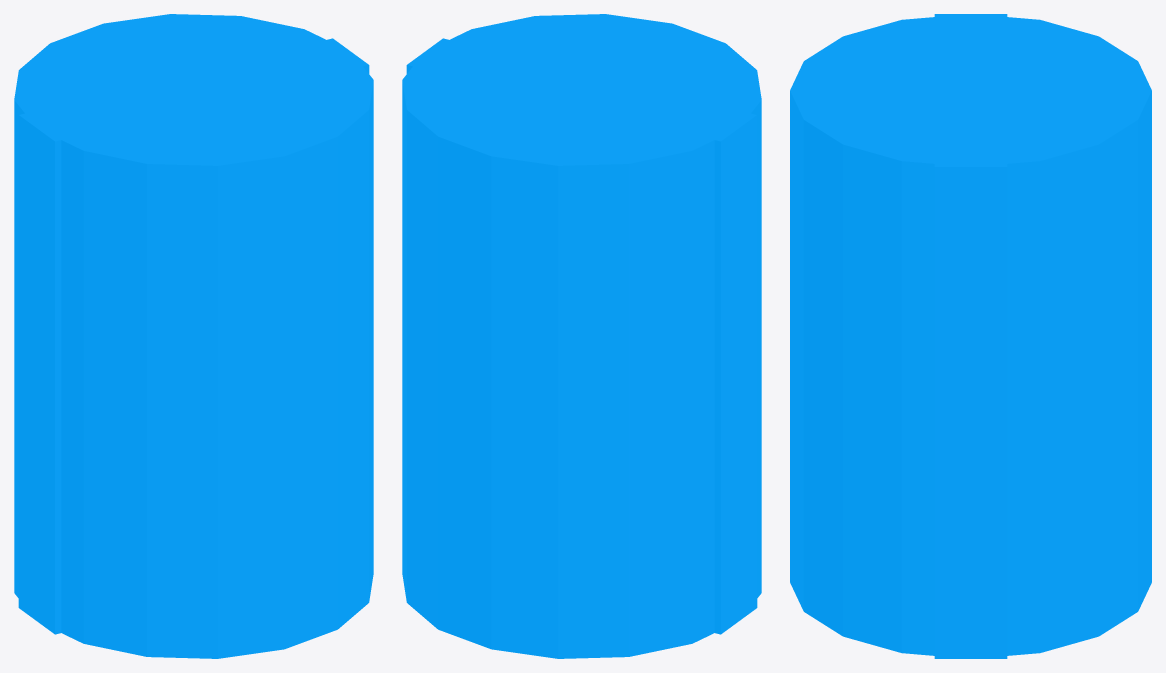
The model's file is Rings.fbx.
The picture shows the model from 3 angles, left to right: view 1: azimuth 30°, elevation 25°; view 2: azimuth 150°, elevation 25°; view 3: azimuth 270°, elevation 25°; orthographic projection.
Visible parts, largest first — view 1: SolidBefore, SolidAfter; view 2: SolidBefore, SolidAfter; view 3: SolidBefore, SolidAfter.
Boxes of the visible parts, <box> form: SolidBefore: <box>14,14,373,658</box>; SolidAfter: <box>18,38,369,634</box>; SolidBefore: <box>402,14,761,658</box>; SolidAfter: <box>406,38,757,634</box>; SolidBefore: <box>790,14,1151,655</box>; SolidAfter: <box>934,14,1007,658</box>.
Size of the model in its own units: 2 by 3 by 2.
